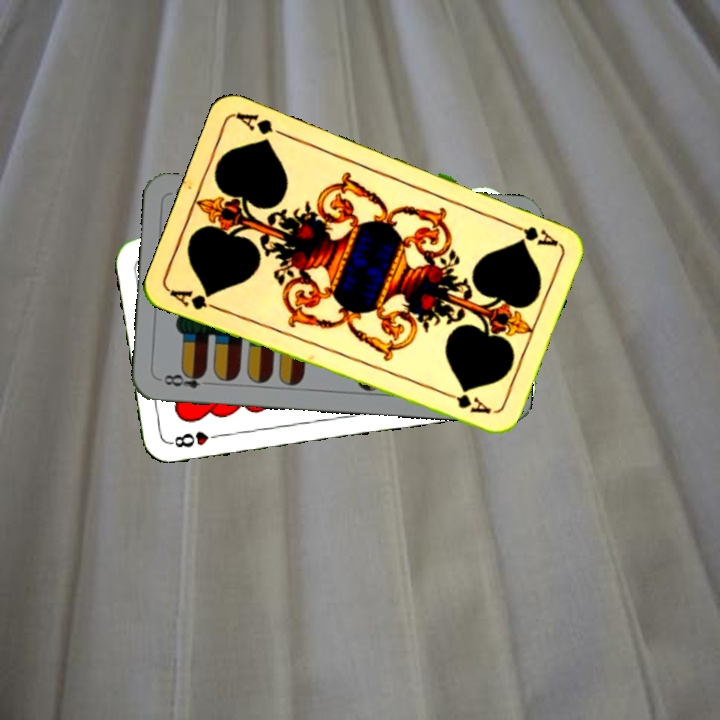E8: (156, 367, 215, 391)
GA: (504, 218, 560, 249), (166, 285, 224, 314)
H8: (166, 427, 225, 451)
